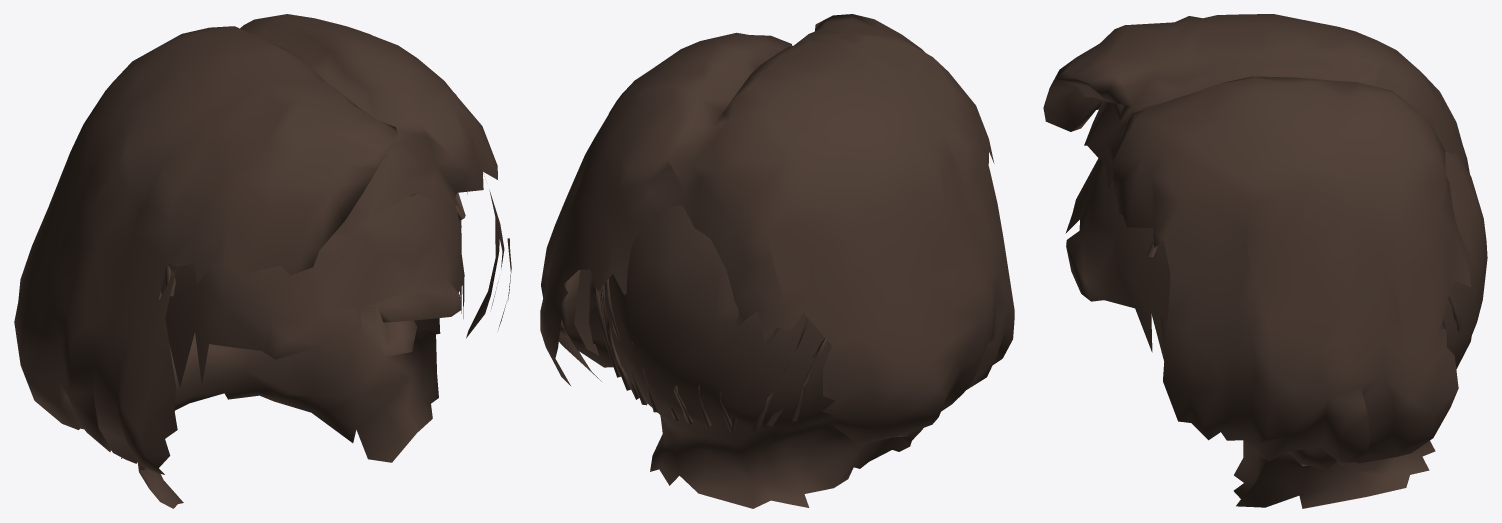
File: bob.glb
The picture shows the model from 3 angles, left to right: view 1: azimuth 30°, elevation 25°; view 2: azimuth 150°, elevation 25°; view 3: azimuth 270°, elevation 25°; orthographic projection. The views are drawn at different scales.
Parts seen in each view (by area): view 1: Hair, HairScalp; view 2: Hair, HairScalp, HairPulledRootStrands; view 3: Hair, HairScalp.
Part boxes in pixels (bbox=[...]): Hair: bbox=[14, 14, 511, 474]; HairScalp: bbox=[80, 181, 464, 508]; Hair: bbox=[540, 14, 1014, 444]; HairScalp: bbox=[560, 205, 923, 508]; HairPulledRootStrands: bbox=[594, 279, 828, 431]; Hair: bbox=[1043, 14, 1472, 464]; HairScalp: bbox=[1065, 152, 1487, 508].
Bounding box in the file's own units: 0.5112 × 0.4738 × 0.4518.
